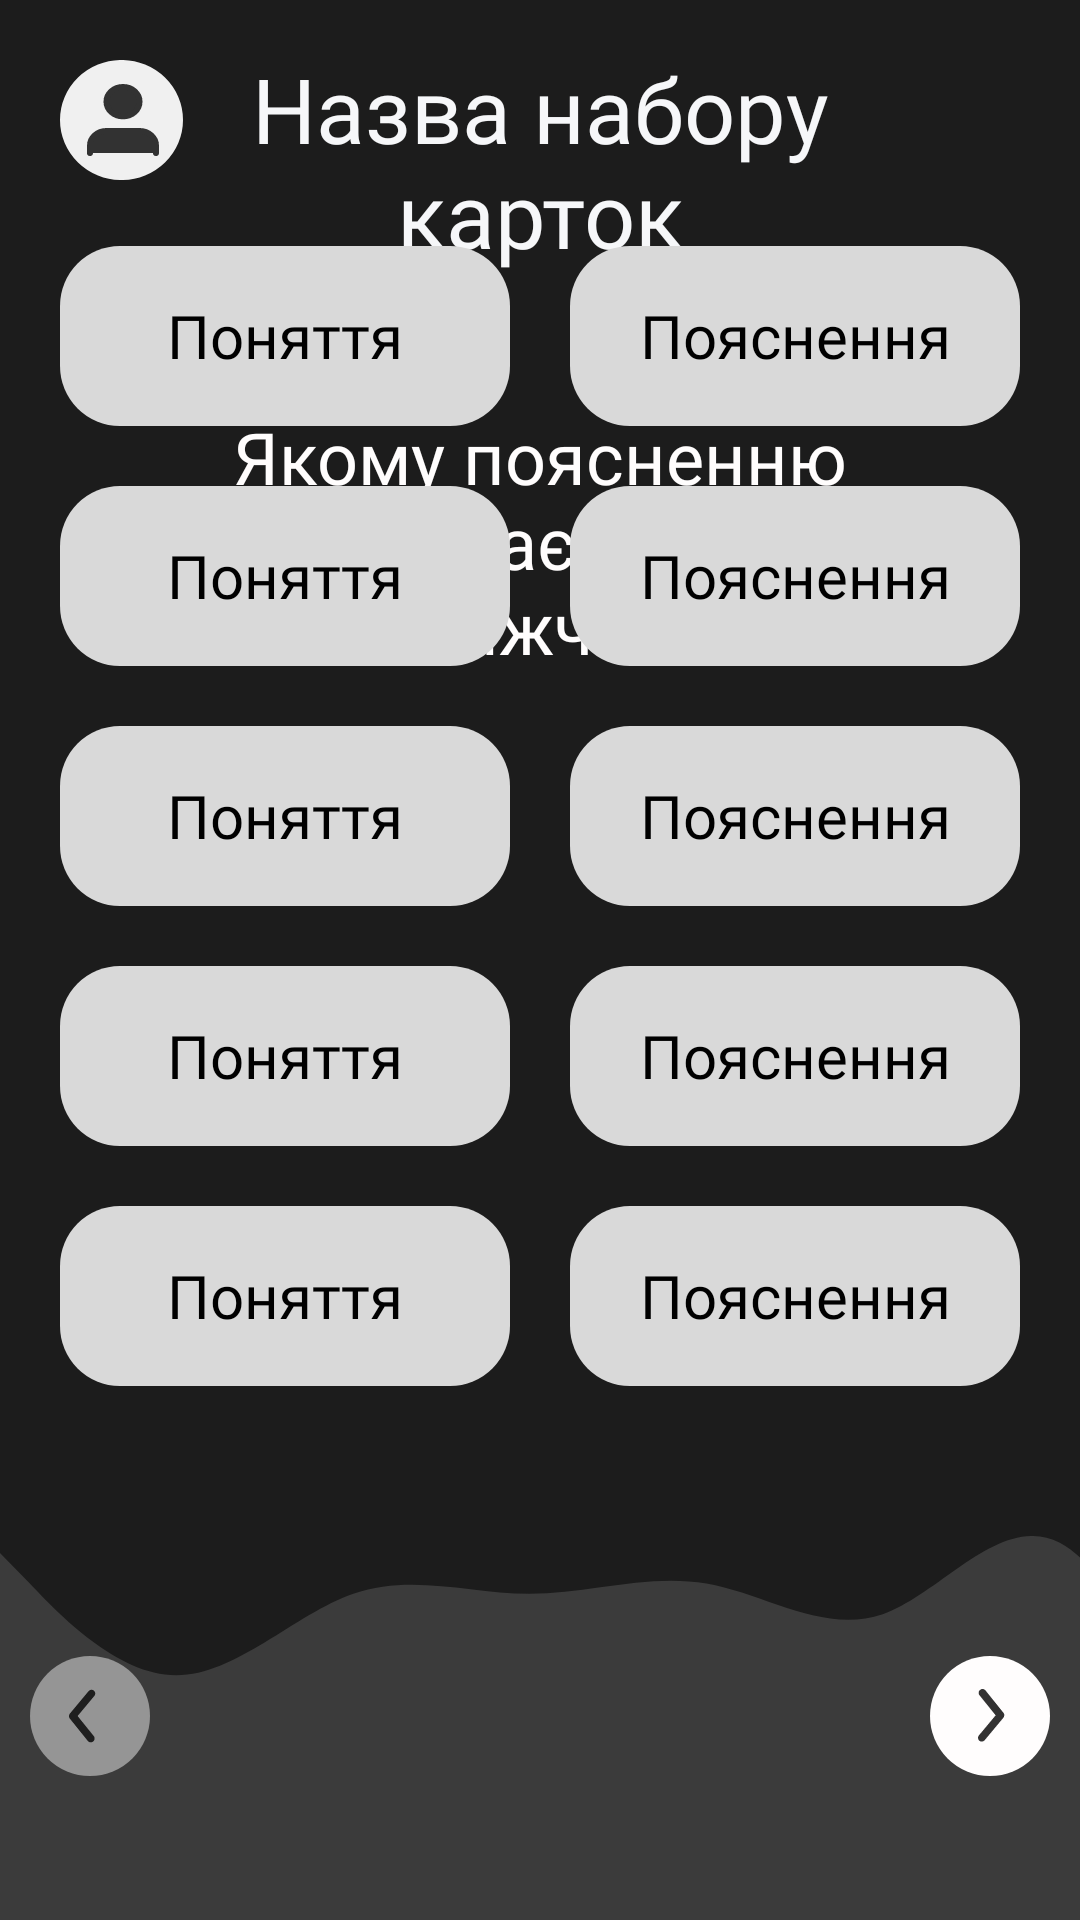

Named icons in this screenshot (1080px×1920px) and their bounding boxes, detection(x1, y1, x2, y2):
left back pas: detection(30, 1656, 150, 1776)
Акаунта: detection(60, 60, 183, 180)
Вперед: detection(930, 1656, 1050, 1776)
